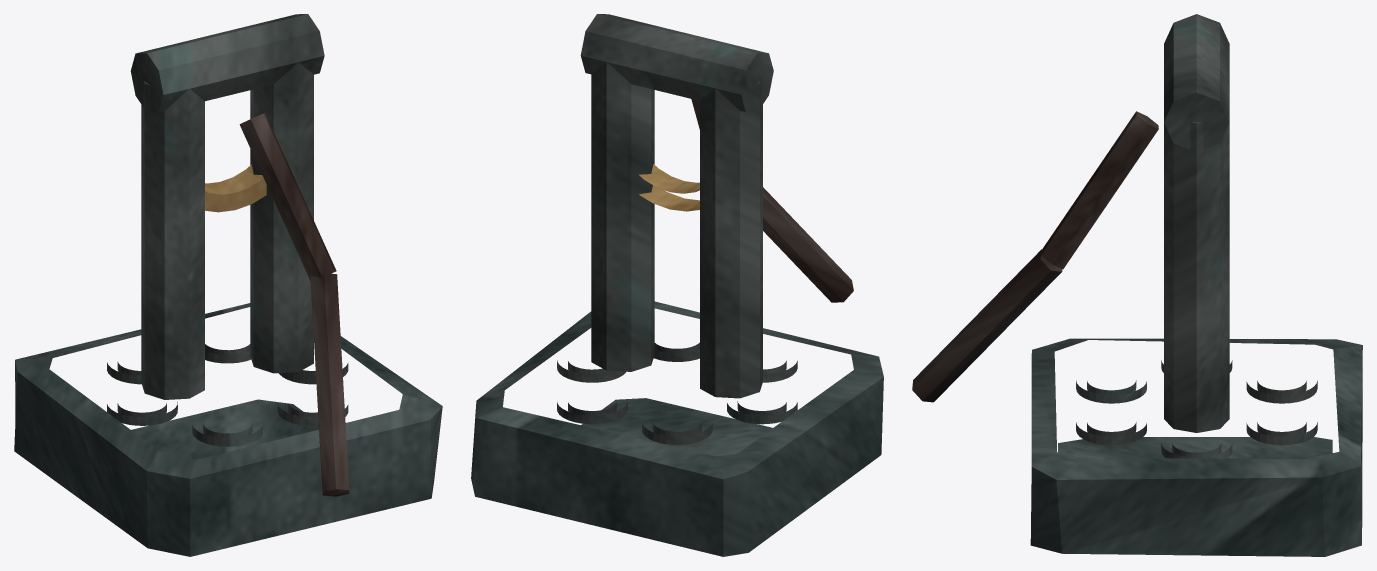
The model's file is 0689_rope_anchor_14.glb.
3 views of the same model, side by side, from view 1: azimuth 30°, elevation 25°; view 2: azimuth 150°, elevation 25°; view 3: azimuth 270°, elevation 25° (orthographic).
Visible parts, largest first — view 1: iron, stone_dark, wood_dark, brass; view 2: iron, stone_dark, wood_dark, brass; view 3: stone_dark, iron, wood_dark.
Part boxes in pixels (bbox=[...]): iron: bbox=[107, 14, 348, 446]; stone_dark: bbox=[14, 303, 442, 556]; wood_dark: bbox=[239, 113, 349, 496]; brass: bbox=[205, 164, 266, 212]; iron: bbox=[557, 14, 797, 444]; stone_dark: bbox=[471, 301, 883, 556]; wood_dark: bbox=[691, 99, 853, 302]; brass: bbox=[639, 164, 699, 211]; stone_dark: bbox=[1030, 338, 1362, 556]; iron: bbox=[1076, 14, 1317, 458]; wood_dark: bbox=[912, 111, 1158, 402].
Size of the model in its own units: 1.22 by 1.78 by 1.65.
4 materials, 4 textured.
